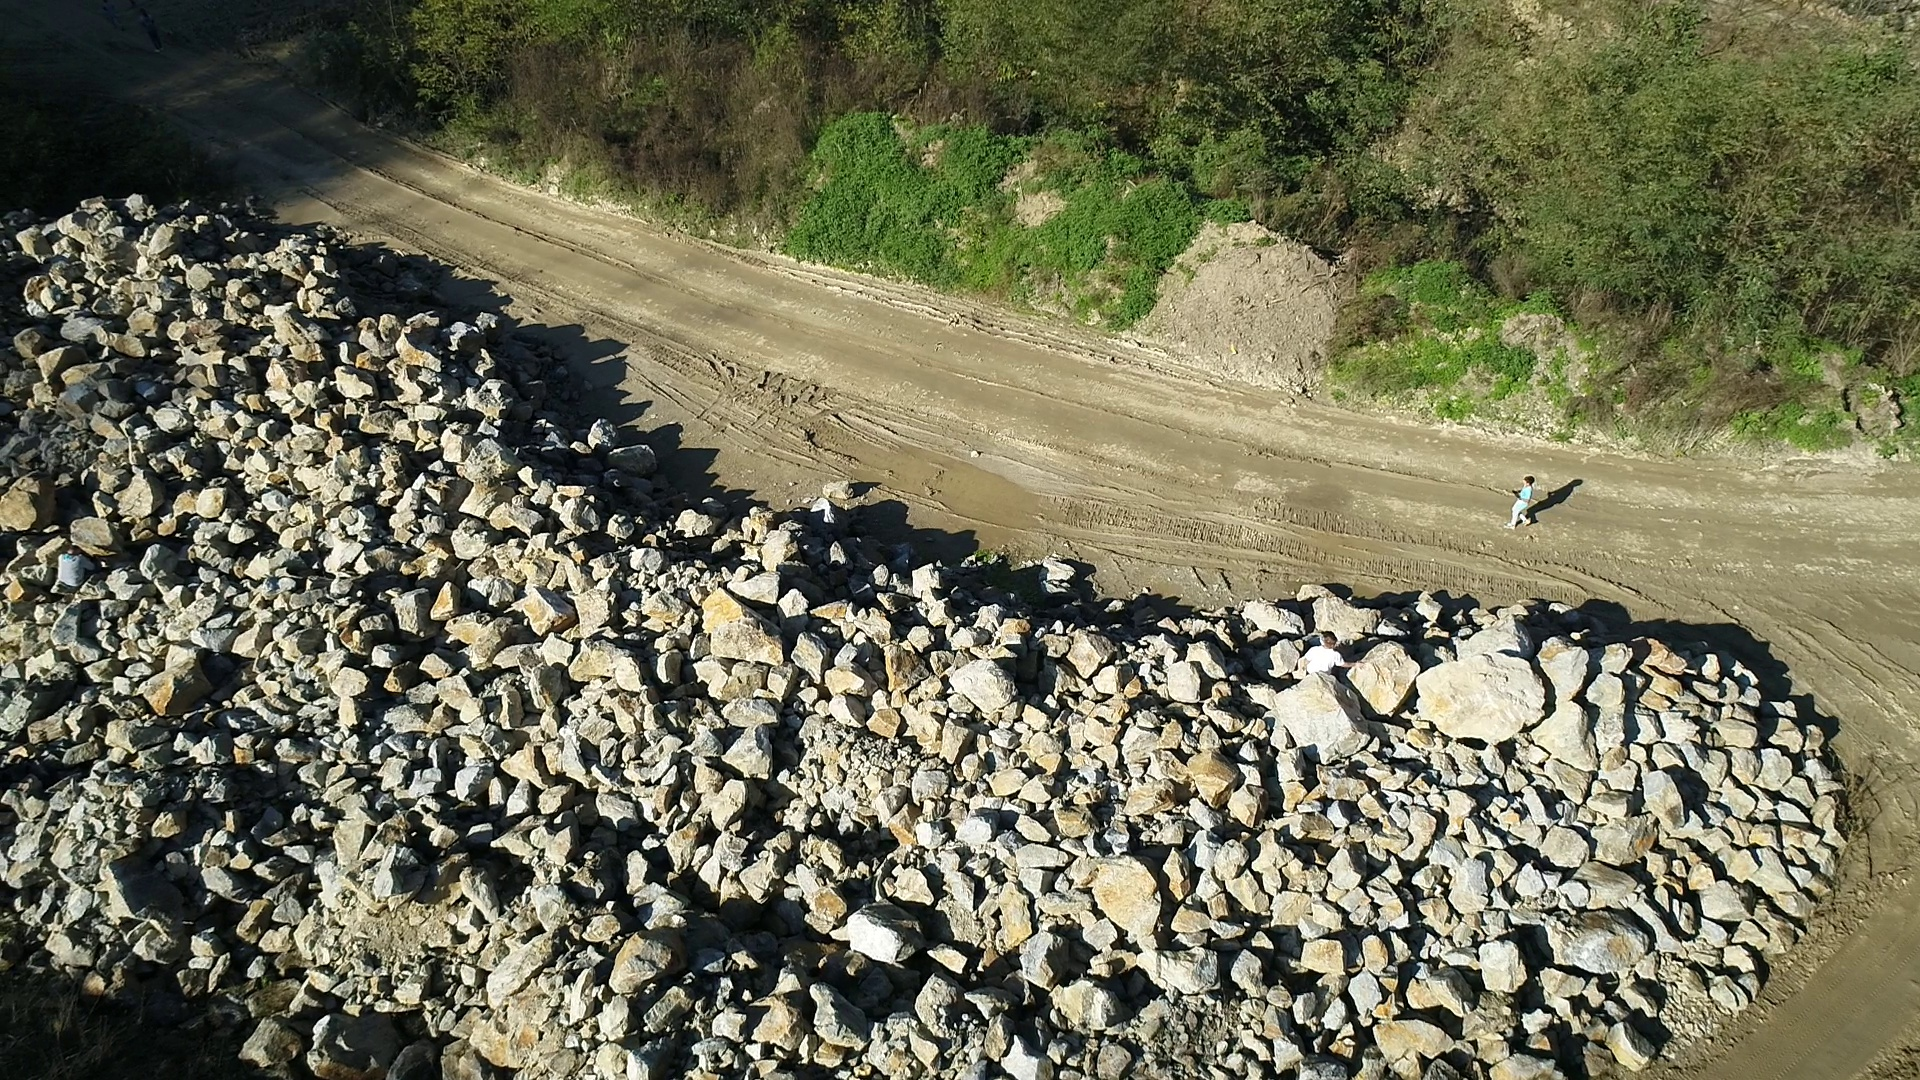person: (1302, 630, 1367, 684), (1503, 474, 1535, 531), (57, 544, 94, 593)
